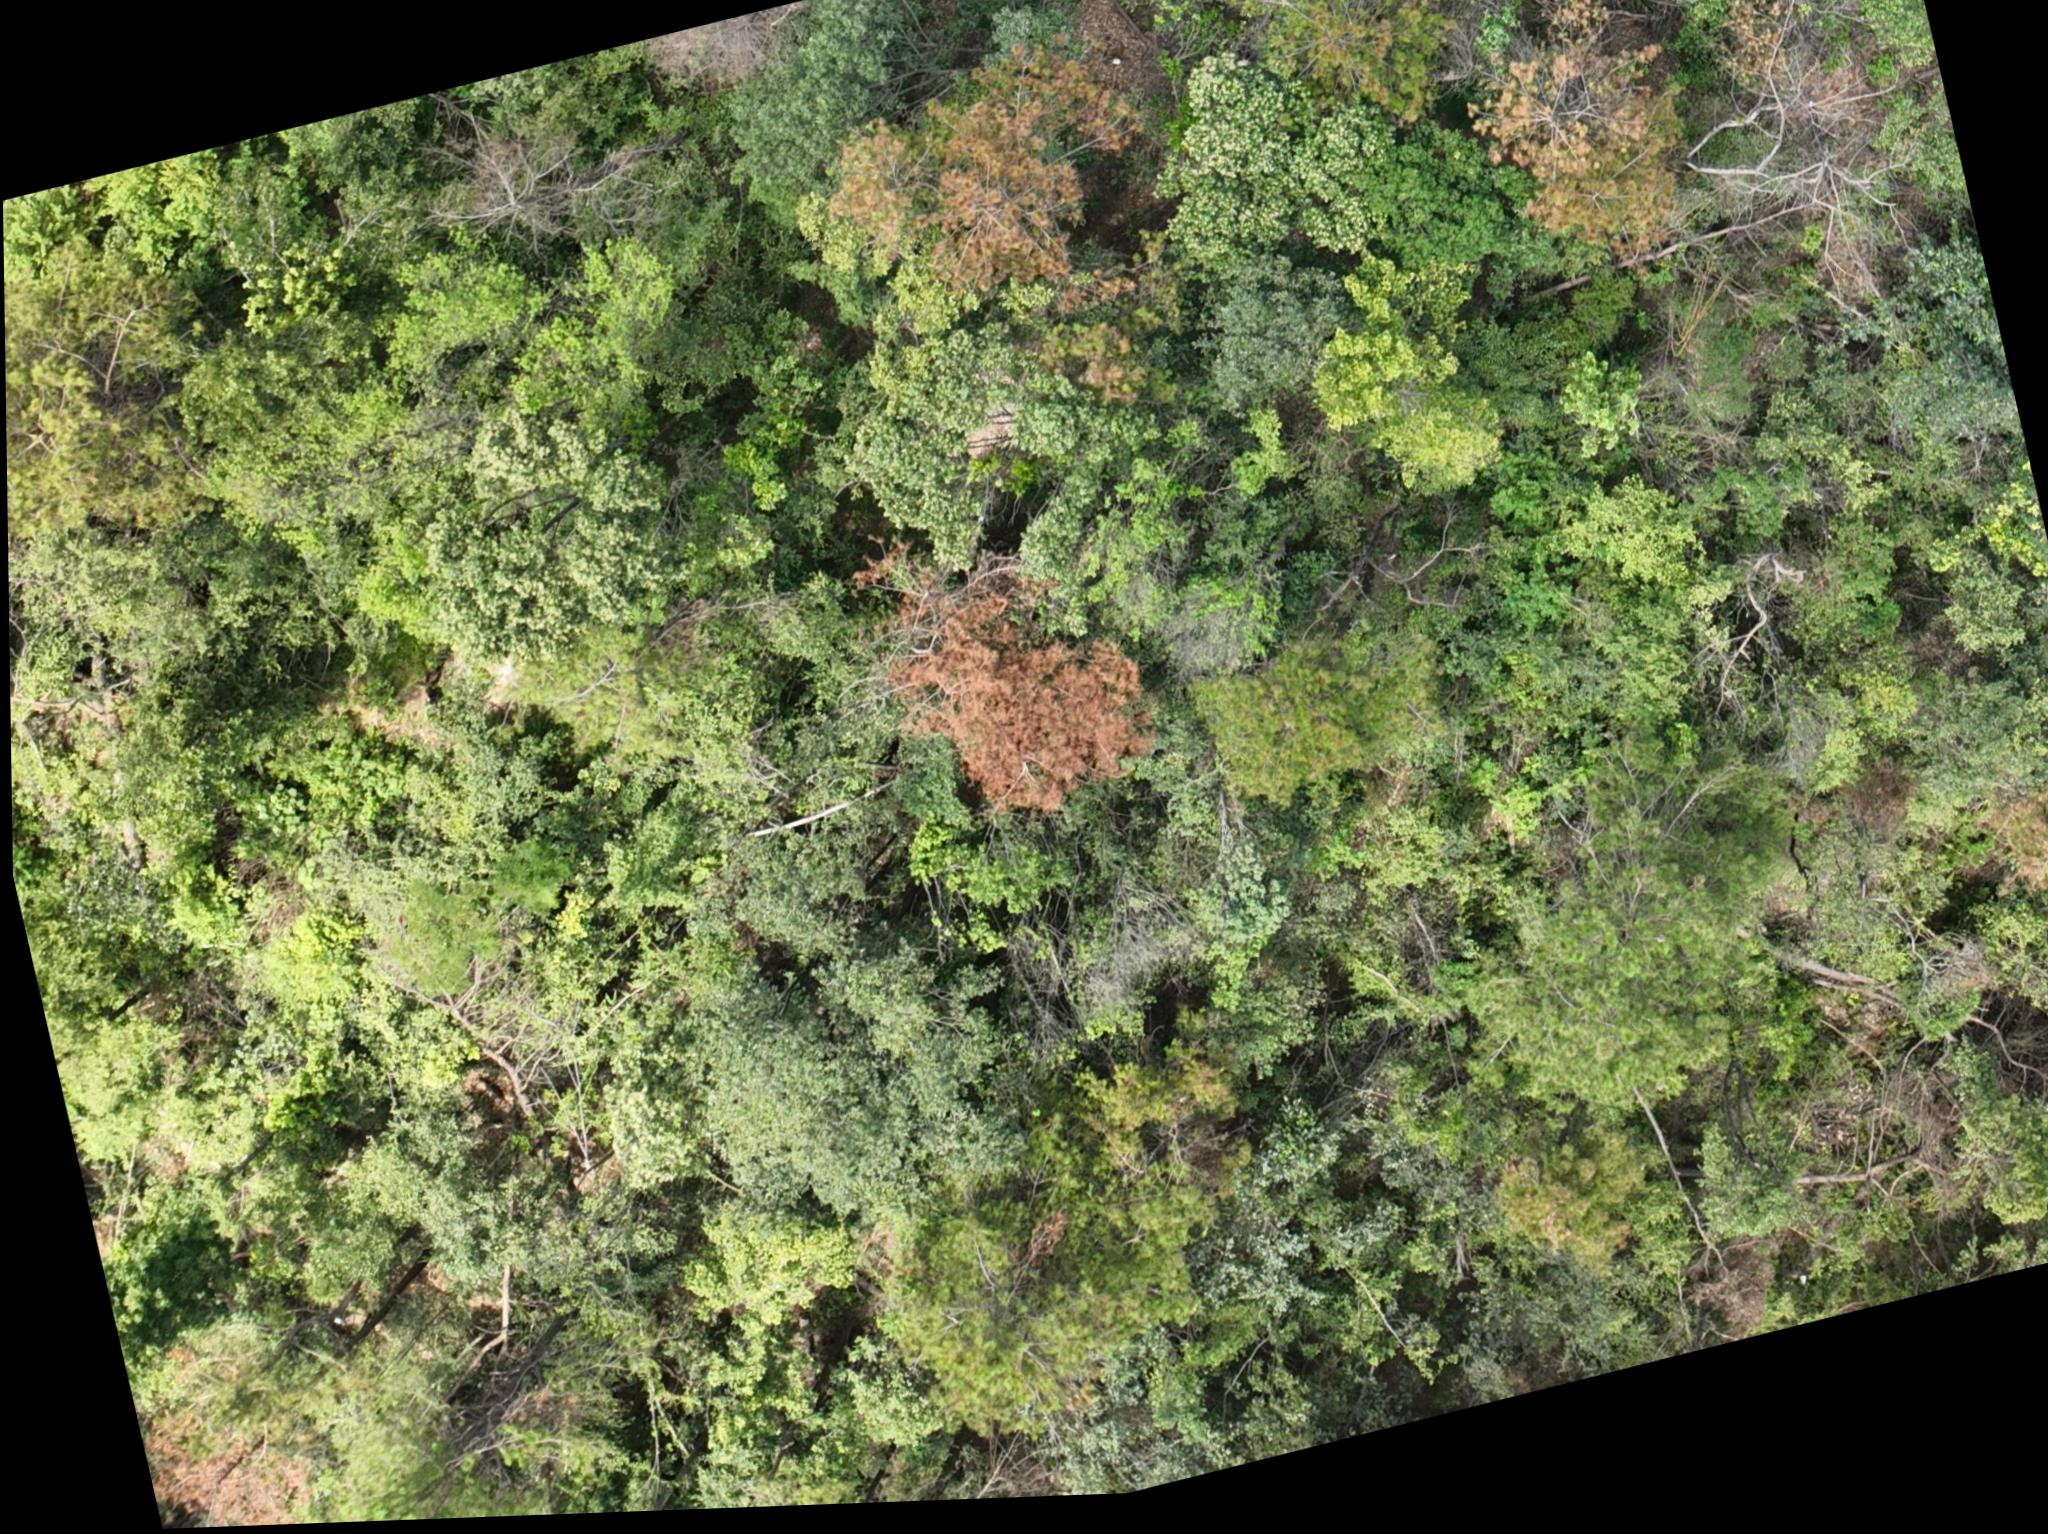heavy: (812, 15, 1152, 332), (848, 520, 1160, 860), (1457, 0, 1706, 296), (135, 1339, 313, 1531)
light: (1263, 0, 1465, 174)
